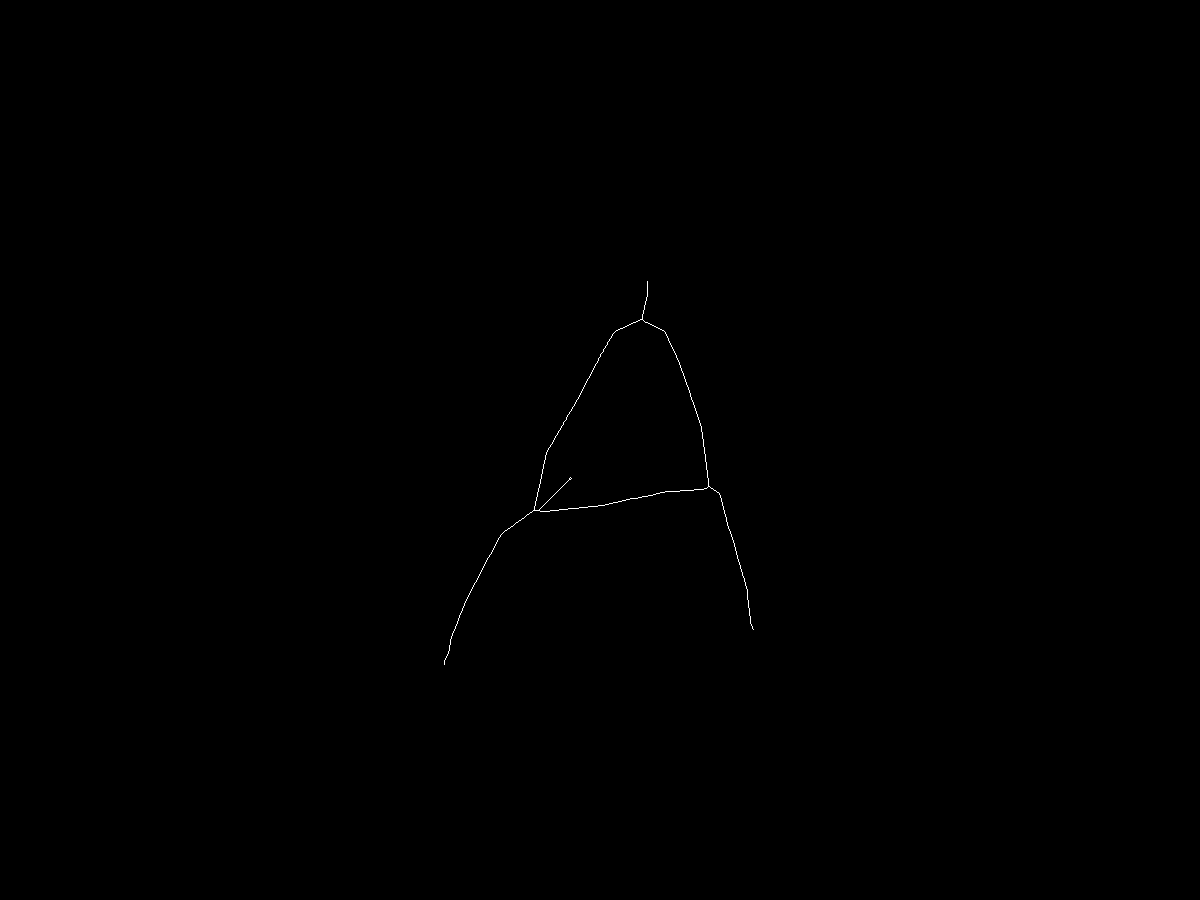dian1: (631, 314, 647, 330)
dian2: (528, 508, 541, 521)
dian3: (437, 653, 455, 671)
dian4: (698, 482, 714, 498)
dian5: (745, 617, 761, 633)
